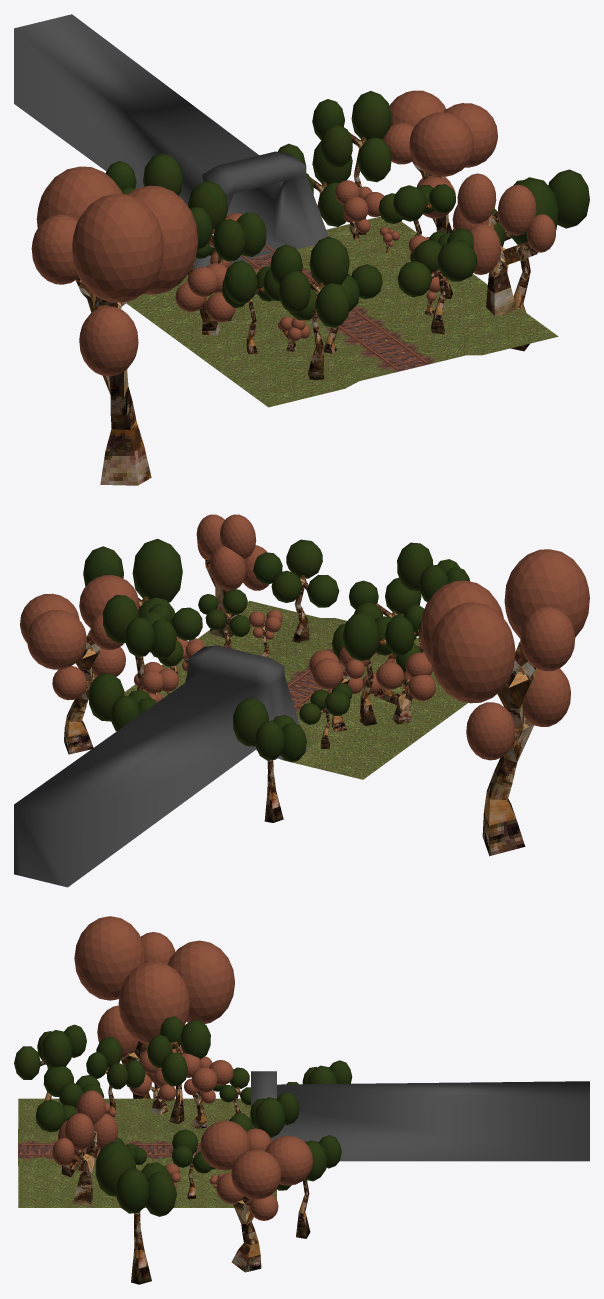
The model's file is secretLocation.glb.
3 views of the same model, one above another, from view 1: azimuth 30°, elevation 25°; view 2: azimuth 150°, elevation 25°; view 3: azimuth 270°, elevation 25° (orthographic). The views are drawn at different scales.
Visible parts, largest first — view 1: Plane, leavesorange.009, leavesorange.003, leavesorange.002, leaves.006, leaves.002, orangebranch.009, leaves.001, leaves.007, leaves.011, leaves.008, leavesorange (+9 smaller); view 2: Plane, leavesorange.009, leavesorange.003, orangebranch.009, leaves.011, leavesorange.002, leaves.007, leaves.002, leaves.003, leaves.001, leaves.006, leaves.005 (+15 smaller); view 3: Plane, leavesorange.009, leavesorange.003, leaves.011, leavesorange.002, leaves.001, leaves.006, leaves.009, leaves.002, leavesorange.001, leaves.010, orangebranch.003 (+9 smaller).
Part boxes in pixels (x1,y1,x2,y2): Plane: (14,14,558,407); leavesorange.009: (31,166,197,376); leavesorange.003: (383,90,497,218); leavesorange.002: (452,173,555,274); leaves.006: (270,236,349,327); leaves.002: (312,91,391,182); orangebranch.009: (75,278,151,485); leaves.001: (188,180,266,261); leaves.007: (397,228,476,297); leaves.011: (492,169,589,246); leaves.008: (378,184,455,223); leavesorange: (175,263,235,322); Plane: (14,600,467,887); leavesorange.009: (420,549,589,760); leavesorange.003: (20,575,139,700); orangebranch.009: (482,641,539,856); leaves.011: (83,538,182,624); leavesorange.002: (196,514,269,590); leaves.007: (253,539,339,607); leaves.002: (102,595,176,658); leaves.003: (233,698,306,762); leaves.001: (332,612,414,661); leaves.006: (397,542,470,602); leaves.005: (88,673,156,731); Plane: (18,1071,589,1207); leavesorange.009: (74,916,234,1057); leavesorange.003: (200,1120,313,1220); leaves.011: (95,1141,176,1216); leavesorange.002: (52,1090,117,1165); leaves.001: (147,1016,210,1086); leaves.006: (14,1024,86,1079); leaves.009: (86,1037,145,1089); leaves.002: (229,1092,299,1138); leavesorange.001: (181,1053,233,1103); leaves.010: (43,1066,104,1107); orangebranch.003: (231,1196,261,1272).
Bounding box in the file's own units: 37.06 × 20.49 × 44.55.
2 materials, 2 textured.
